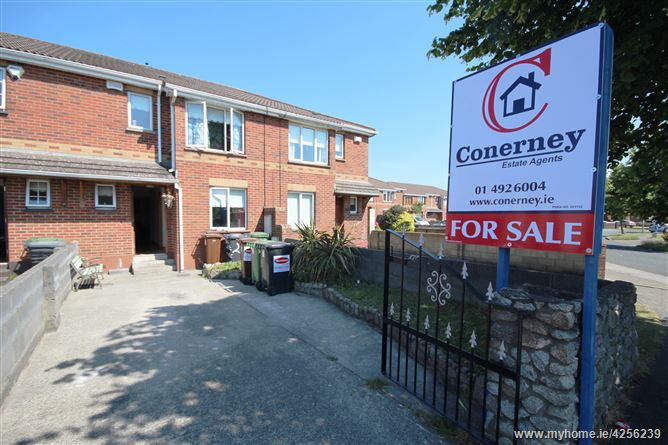property sign: (424, 17, 625, 261)
